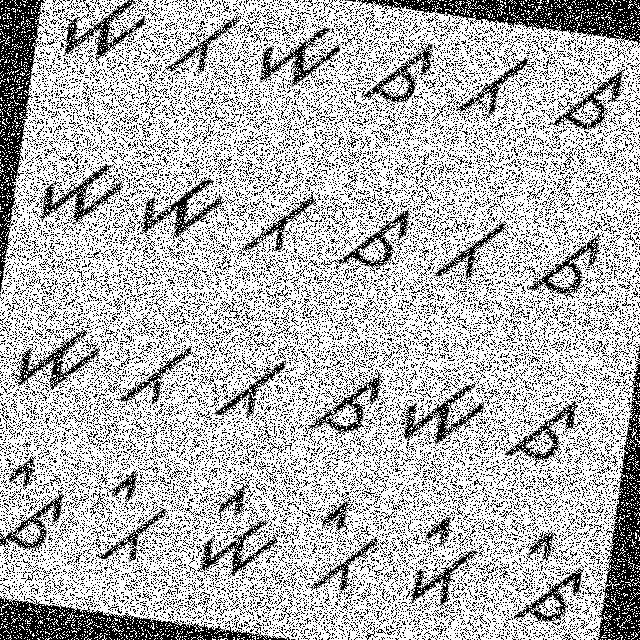ba: (149, 0, 245, 95), (112, 326, 198, 422), (205, 340, 292, 432), (447, 39, 533, 131), (428, 203, 512, 291), (237, 176, 321, 262)
bi: (92, 458, 182, 576), (296, 492, 388, 606)
ca: (496, 377, 594, 478), (300, 354, 390, 456), (349, 23, 441, 116), (552, 47, 639, 144), (330, 192, 417, 282), (522, 220, 610, 308)
ci: (498, 519, 595, 639), (0, 437, 84, 563)
ma: (392, 358, 494, 462), (245, 9, 351, 106), (32, 142, 131, 242), (133, 151, 234, 248), (9, 307, 110, 401), (51, 0, 150, 72)
mi: (191, 472, 293, 588)
